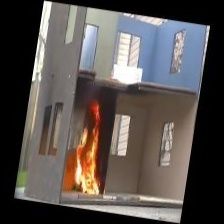fire: (65, 95, 118, 203)
